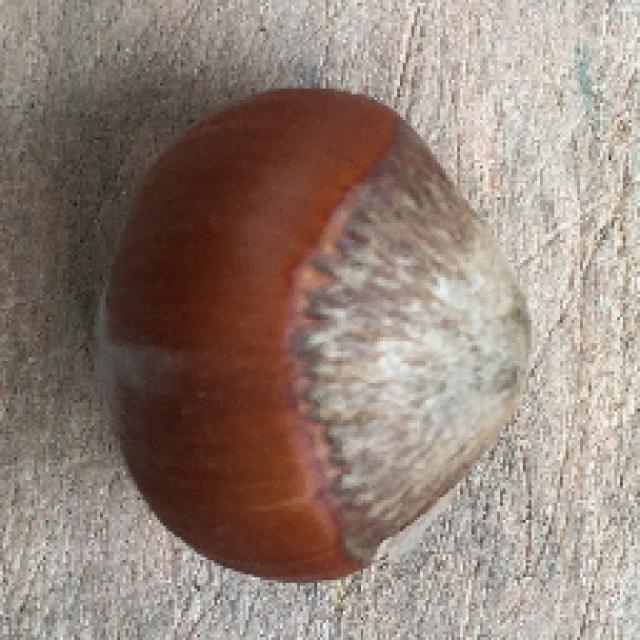qualityHazelnut: (83, 80, 540, 598)
